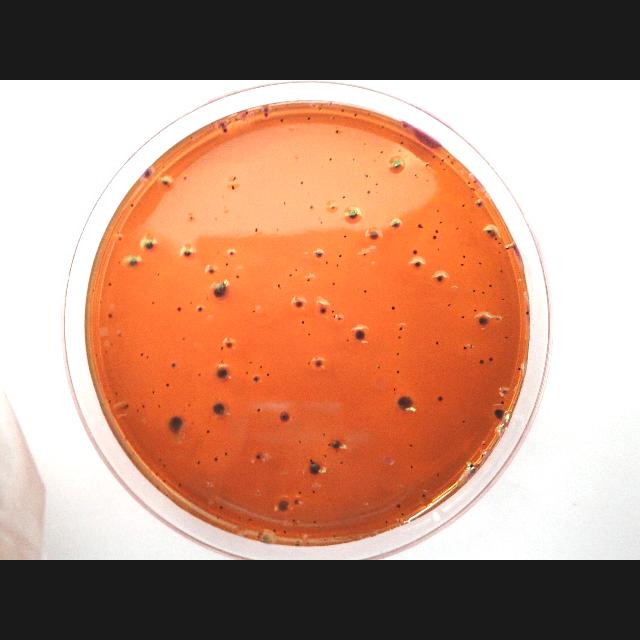colony: (396, 394, 416, 412), (167, 415, 185, 435), (213, 282, 229, 298), (212, 402, 228, 418), (347, 205, 361, 222), (308, 462, 322, 476), (476, 314, 489, 328), (368, 228, 380, 242), (390, 217, 402, 231), (292, 298, 306, 310), (354, 328, 366, 342), (277, 500, 291, 512), (143, 238, 157, 250), (279, 411, 291, 424), (313, 248, 325, 260), (216, 367, 228, 379), (434, 274, 446, 284), (494, 408, 504, 420), (392, 158, 402, 170), (318, 306, 329, 316), (332, 438, 342, 449), (183, 247, 191, 260), (144, 168, 154, 178), (128, 258, 140, 266), (484, 227, 494, 236), (314, 359, 324, 367), (252, 374, 260, 384), (196, 304, 204, 314), (226, 339, 234, 349), (254, 452, 264, 460), (414, 260, 422, 268), (436, 394, 444, 402), (292, 498, 300, 506), (208, 266, 216, 274), (418, 222, 424, 230), (476, 200, 482, 208), (478, 358, 484, 366), (219, 121, 227, 127), (171, 361, 177, 369), (247, 516, 253, 524), (262, 536, 270, 542), (161, 178, 169, 184), (331, 203, 337, 210), (230, 183, 236, 190), (228, 250, 235, 256), (306, 115, 312, 121), (342, 234, 348, 240), (338, 252, 344, 258), (294, 266, 300, 272), (412, 249, 418, 255), (432, 234, 438, 240), (460, 314, 466, 320), (488, 357, 494, 363), (502, 389, 508, 395), (398, 326, 404, 332), (397, 334, 403, 340), (264, 112, 270, 118), (222, 128, 228, 134), (177, 306, 183, 312), (196, 372, 202, 378), (124, 403, 130, 409), (158, 456, 164, 462), (218, 504, 224, 510), (295, 538, 301, 544), (182, 175, 188, 181), (367, 188, 371, 196), (310, 203, 314, 211), (332, 280, 336, 288), (506, 244, 510, 252), (422, 492, 426, 500), (380, 148, 384, 156), (264, 105, 268, 113), (108, 312, 112, 320), (206, 428, 210, 436), (152, 388, 156, 396), (233, 175, 237, 182), (335, 128, 339, 134), (340, 108, 346, 112), (354, 112, 358, 118), (329, 156, 333, 162), (300, 180, 304, 186), (320, 220, 324, 226), (283, 200, 287, 206), (276, 284, 282, 288), (338, 316, 342, 322), (391, 305, 395, 311), (462, 254, 466, 260), (461, 262, 465, 268), (501, 296, 505, 302), (425, 162, 429, 168), (414, 173, 418, 179), (495, 316, 499, 322), (517, 366, 521, 372), (462, 346, 468, 350), (500, 400, 504, 406), (409, 442, 413, 448), (410, 464, 414, 470), (266, 372, 270, 378), (248, 360, 252, 366), (256, 408, 262, 412), (327, 442, 331, 448), (298, 438, 302, 444), (312, 488, 316, 494), (292, 518, 296, 524), (396, 503, 400, 509), (415, 154, 419, 160), (381, 124, 385, 130), (352, 156, 356, 162), (329, 102, 333, 108), (312, 103, 316, 109), (245, 110, 249, 116), (254, 227, 258, 233), (118, 236, 122, 242), (146, 354, 150, 360), (181, 336, 185, 342), (191, 420, 195, 426), (166, 382, 170, 388), (140, 404, 146, 408), (136, 408, 140, 414), (108, 399, 112, 405), (197, 460, 201, 466), (259, 530, 263, 536), (296, 542, 300, 548), (398, 133, 404, 137), (234, 116, 238, 122), (190, 134, 194, 140), (252, 308, 256, 314), (115, 389, 118, 396), (336, 262, 339, 268), (436, 208, 439, 214), (451, 160, 454, 166), (436, 472, 439, 478), (401, 140, 404, 146), (431, 144, 434, 150), (280, 118, 284, 122), (332, 116, 336, 120), (365, 174, 369, 178), (342, 196, 346, 200), (306, 278, 310, 282), (289, 273, 293, 277), (278, 286, 282, 290), (332, 315, 336, 319), (363, 290, 367, 294), (437, 248, 441, 252), (478, 262, 482, 266), (488, 284, 492, 288), (482, 291, 486, 295), (447, 303, 451, 307), (473, 308, 477, 312), (500, 270, 504, 274), (469, 220, 473, 224), (462, 204, 466, 208), (442, 167, 446, 171), (494, 237, 498, 241), (497, 241, 501, 245), (469, 344, 473, 348), (462, 419, 466, 423), (481, 454, 485, 458), (469, 464, 473, 468), (393, 387, 397, 391), (396, 370, 400, 374), (377, 365, 381, 369), (301, 320, 305, 324), (245, 371, 249, 375), (322, 432, 326, 436), (309, 458, 313, 462), (298, 491, 302, 495), (313, 520, 317, 524), (283, 530, 287, 534), (272, 528, 276, 532), (332, 534, 336, 538), (401, 512, 405, 516), (385, 520, 389, 524), (482, 442, 486, 446), (474, 464, 478, 468), (398, 149, 402, 153), (319, 107, 323, 111), (235, 274, 239, 278), (189, 300, 193, 304), (156, 272, 160, 276), (189, 216, 193, 220), (130, 203, 134, 207), (128, 252, 132, 256), (116, 231, 120, 235), (108, 282, 112, 286), (118, 332, 122, 336), (110, 342, 114, 346), (104, 350, 108, 354), (140, 352, 144, 356), (220, 346, 224, 350), (182, 408, 186, 412), (157, 404, 161, 408), (224, 452, 228, 456), (214, 456, 218, 460), (163, 464, 167, 468), (154, 472, 158, 476), (162, 479, 166, 483), (178, 482, 182, 486), (216, 515, 220, 519), (239, 516, 243, 520), (244, 534, 248, 538), (256, 535, 260, 539), (326, 260, 328, 266), (436, 228, 438, 234), (471, 187, 474, 191), (446, 155, 449, 159), (526, 310, 528, 316), (396, 352, 399, 356), (436, 340, 438, 346), (308, 360, 310, 366), (225, 262, 228, 266), (152, 300, 154, 306), (215, 217, 218, 221), (100, 299, 102, 305), (220, 359, 223, 363), (188, 402, 190, 408), (192, 396, 195, 400), (162, 165, 165, 169), (376, 182, 378, 186), (364, 252, 366, 256), (332, 310, 334, 314), (440, 221, 442, 225), (472, 290, 476, 292), (456, 227, 458, 231), (468, 181, 470, 185), (474, 180, 476, 184), (426, 178, 428, 182), (442, 158, 444, 162), (440, 162, 442, 166), (432, 156, 436, 158), (505, 336, 509, 338), (308, 333, 310, 337), (260, 365, 262, 369), (339, 462, 343, 464), (324, 454, 326, 458), (364, 142, 366, 146), (368, 112, 370, 116), (206, 296, 208, 300), (118, 260, 120, 264), (306, 542, 310, 544), (404, 154, 406, 158), (229, 120, 231, 124), (346, 338, 348, 342), (498, 250, 500, 253), (471, 196, 473, 198), (478, 464, 480, 466)
